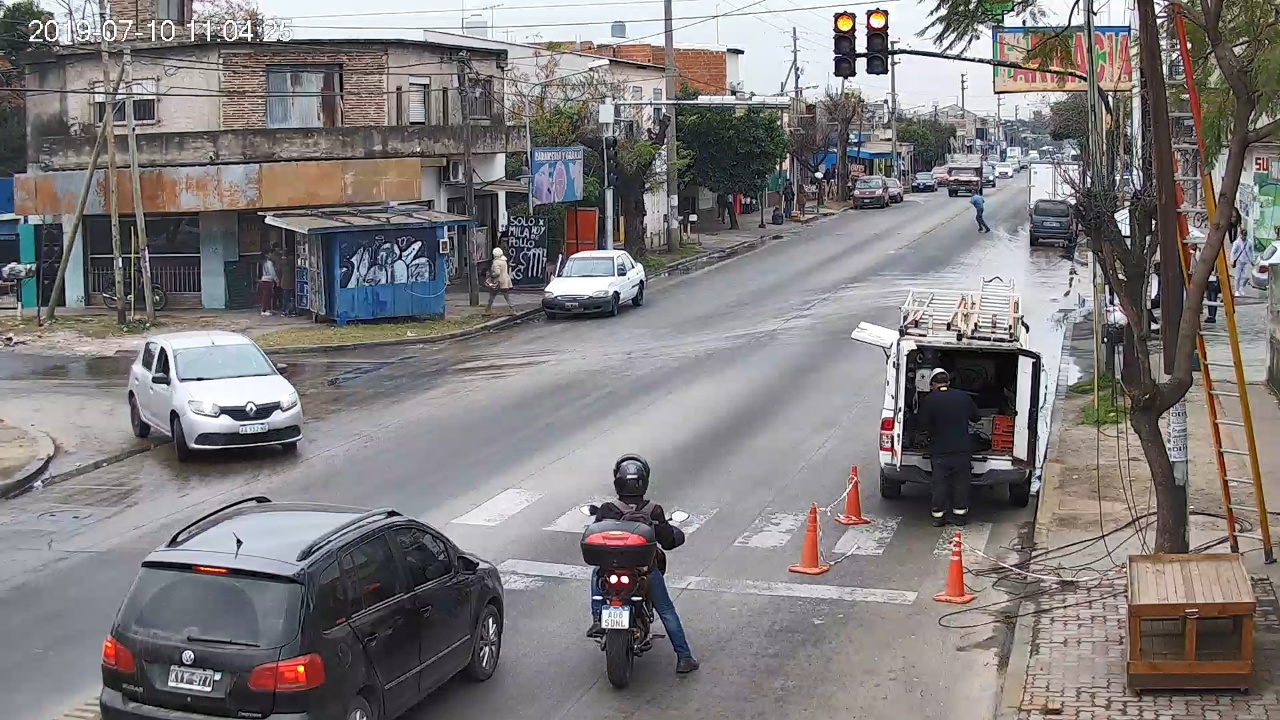car: (100, 495, 503, 720)
front car: (128, 331, 304, 462), (543, 249, 647, 318)
motorcycle: (579, 499, 695, 687)
traffic light: (834, 13, 855, 76), (867, 10, 888, 73)
